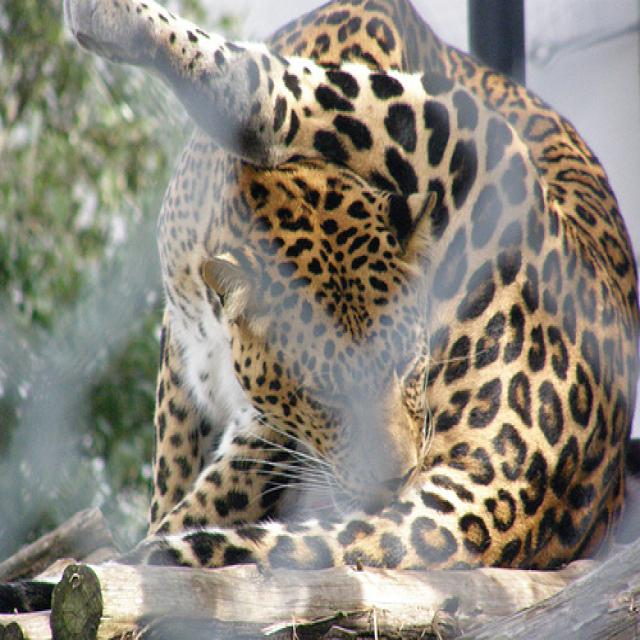Leopard: (64, 7, 637, 572)
